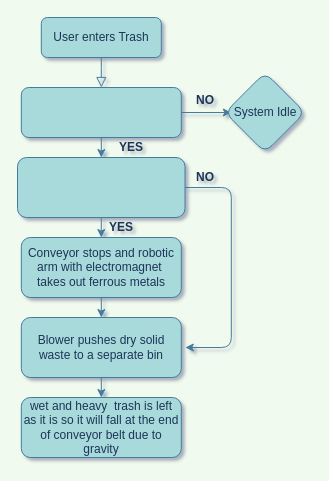
This 329x481 diagram has some shape labels left out. The centre of each missing label's shape, as x and y in pixels:
meta waste detected by eddy current sensor: point 100,187
Ultrasonic sensor detects trash and starts conveyor belt: point 100,112
